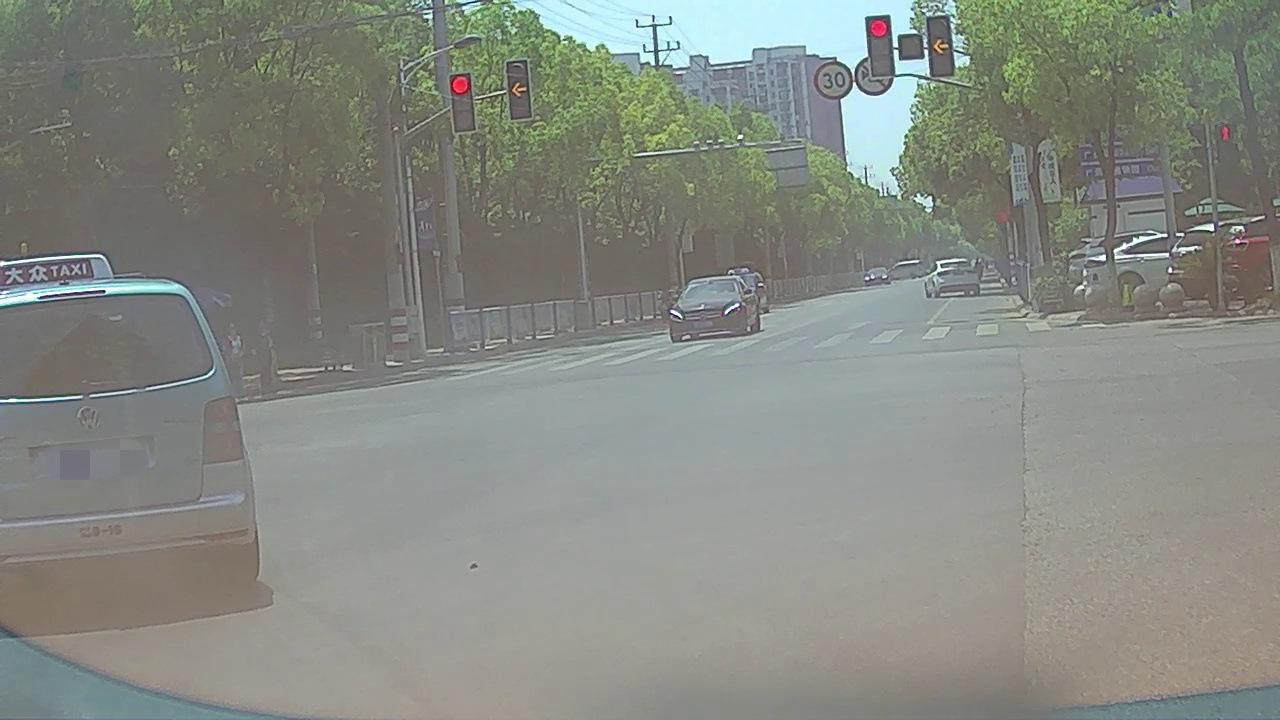traffic_light: (866, 16, 893, 78), (507, 61, 532, 119), (929, 15, 953, 75), (451, 73, 474, 131)
